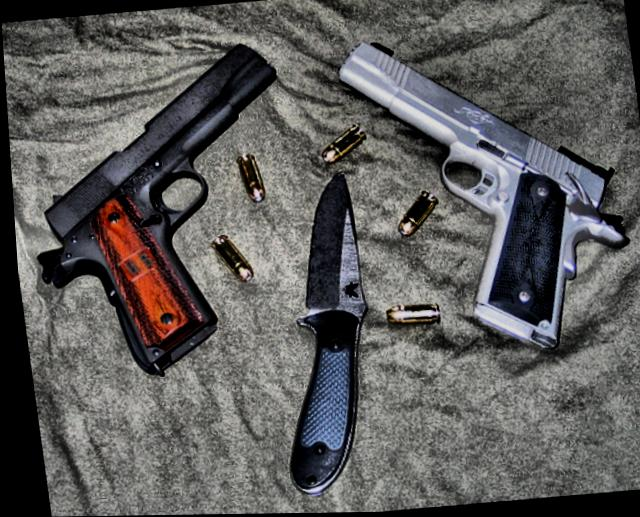pistol: (327, 18, 637, 367), (8, 38, 312, 382)
